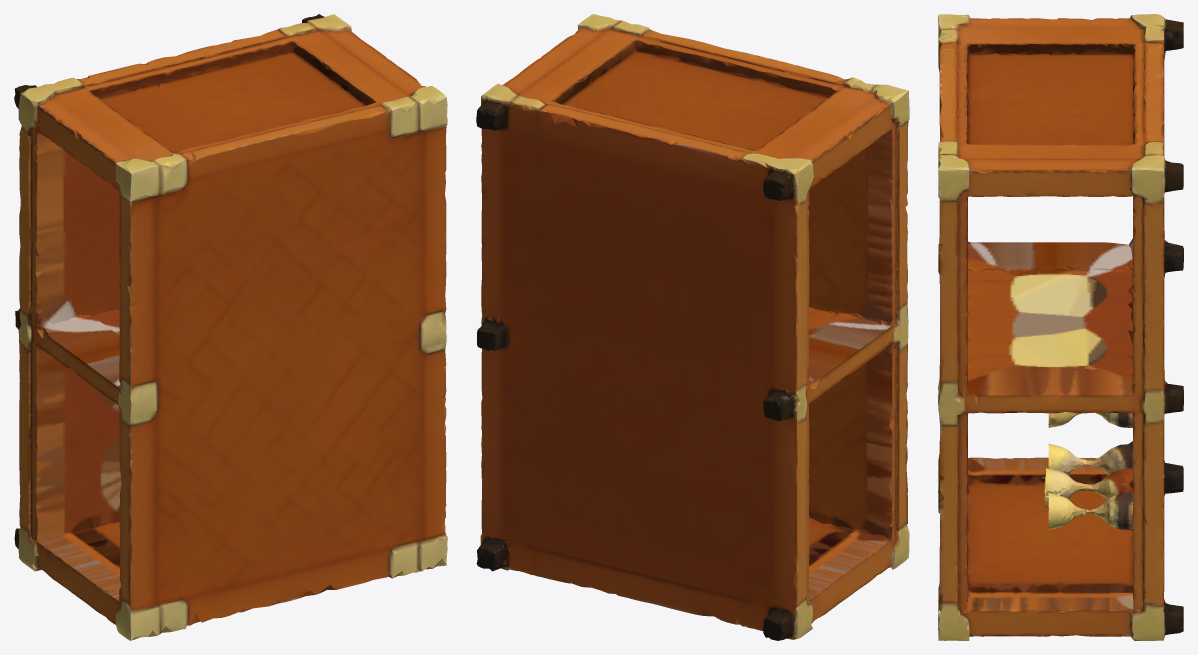
Rendered from Station_Mastery.glb.
3 views of the same model, side by side, from view 1: azimuth 30°, elevation 25°; view 2: azimuth 150°, elevation 25°; view 3: azimuth 270°, elevation 25° (orthographic).
Visible parts, largest first — view 1: Station_Mastery_v3; view 2: Station_Mastery_v3; view 3: Station_Mastery_v3.
Boxes of the visible parts, x1,y1,x2,y2 form: Station_Mastery_v3: (14,14,447,640); Station_Mastery_v3: (476,14,909,640); Station_Mastery_v3: (938,14,1183,640).
Bounding box in the file's own units: 1.2 × 1.7 × 0.7999.
1 material, 1 textured.
